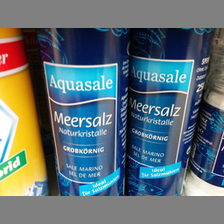spices: (36, 28, 125, 195), (126, 29, 214, 196)
